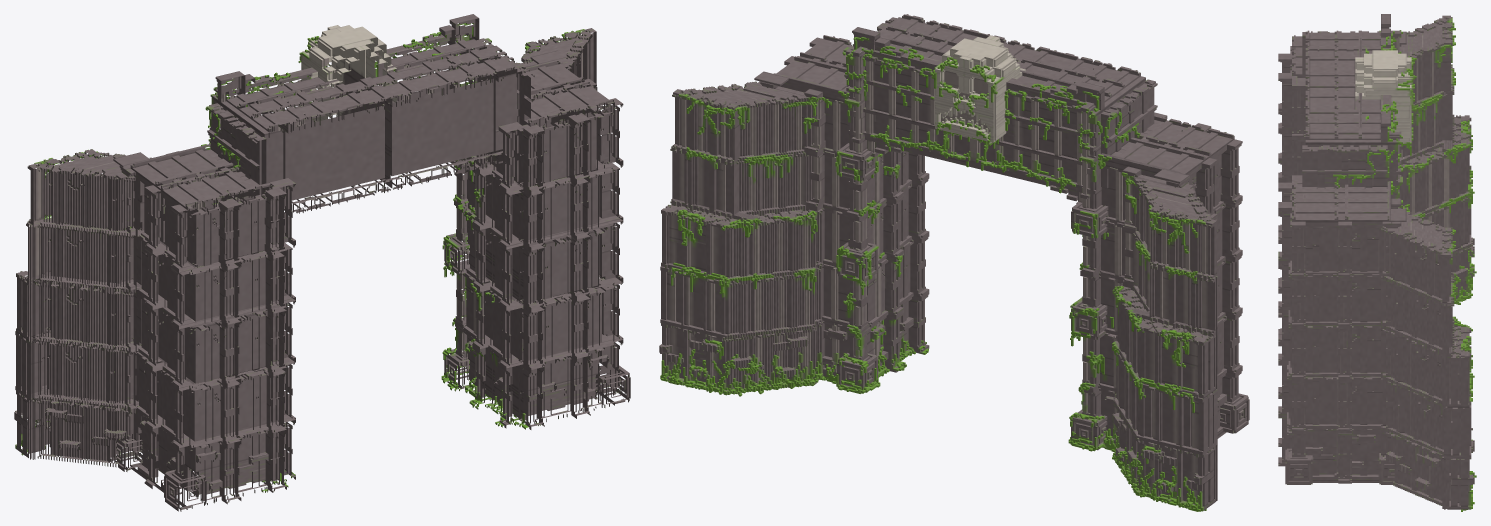
The model's file is Deathgate_state_01.fbx.
The picture shows the model from 3 angles, left to right: view 1: azimuth 30°, elevation 25°; view 2: azimuth 150°, elevation 25°; view 3: azimuth 270°, elevation 25°; orthographic projection. The views are drawn at different scales.
Visible parts, largest first — view 1: deathGate_state_1_part_5_part, deathGate_state_1_part_2_part, deathGate_state_1_part_4_part, deathGate_state_1_part_3, deathGate_state_1, deathGate_state_1_part_4, deathGate_state_1_part_6, deathGate_state_1_part_5, deathGate_state_1_part, deathGate_state_1_part_1_part, deathGate_state_1_part_1, deathGate_state_1_part_2; view 2: deathGate_state_1_part_5_part, deathGate_state_1_part_2_part, deathGate_state_1_part_1_part, deathGate_state_1_part, deathGate_state_1_part_6, deathGate_state_1_part_1, deathGate_state_1, deathGate_state_1_part_2, deathGate_state_1_part_4_part, deathGate_state_1_part_3, deathGate_state_1_part_4, deathGate_state_1_part_5; view 3: deathGate_state_1_part_2_part, deathGate_state_1_part_1_part, deathGate_state_1_part, deathGate_state_1_part_1, deathGate_state_1_part_2, deathGate_state_1_part_5_part, deathGate_state_1, deathGate_state_1_part_4_part, deathGate_state_1_part_6, deathGate_state_1_part_5, deathGate_state_1_part_4, deathGate_state_1_part_3.
Part boxes in pixels (left/top/right/bottom): deathGate_state_1_part_5_part: left=27, top=71, right=295, bottom=275; deathGate_state_1_part_2_part: left=448, top=14, right=623, bottom=196; deathGate_state_1_part_4_part: left=16, top=271, right=295, bottom=390; deathGate_state_1_part_3: left=14, top=378, right=295, bottom=511; deathGate_state_1: left=332, top=25, right=498, bottom=189; deathGate_state_1_part_4: left=15, top=327, right=295, bottom=447; deathGate_state_1_part_6: left=237, top=26, right=392, bottom=216; deathGate_state_1_part_5: left=26, top=203, right=295, bottom=328; deathGate_state_1_part: left=441, top=296, right=630, bottom=429; deathGate_state_1_part_1_part: left=442, top=183, right=623, bottom=312; deathGate_state_1_part_1: left=443, top=257, right=623, bottom=369; deathGate_state_1_part_2: left=450, top=86, right=623, bottom=250; deathGate_state_1_part_5_part: left=1071, top=66, right=1242, bottom=280; deathGate_state_1_part_2_part: left=671, top=14, right=921, bottom=170; deathGate_state_1_part_1_part: left=661, top=177, right=929, bottom=284; deathGate_state_1_part: left=659, top=291, right=929, bottom=396; deathGate_state_1_part_6: left=964, top=36, right=1122, bottom=201; deathGate_state_1_part_1: left=660, top=237, right=929, bottom=337; deathGate_state_1: left=872, top=17, right=1020, bottom=168; deathGate_state_1_part_2: left=670, top=148, right=929, bottom=218; deathGate_state_1_part_4_part: left=1069, top=254, right=1242, bottom=398; deathGate_state_1_part_3: left=1068, top=368, right=1249, bottom=511; deathGate_state_1_part_4: left=1070, top=314, right=1242, bottom=453; deathGate_state_1_part_5: left=1071, top=205, right=1242, bottom=330; deathGate_state_1_part_2_part: left=1278, top=113, right=1455, bottom=306; deathGate_state_1_part_1_part: left=1278, top=290, right=1474, bottom=407; deathGate_state_1_part: left=1278, top=393, right=1476, bottom=511; deathGate_state_1_part_1: left=1278, top=344, right=1472, bottom=456; deathGate_state_1_part_2: left=1278, top=263, right=1454, bottom=353; deathGate_state_1_part_5_part: left=1278, top=14, right=1455, bottom=141; deathGate_state_1: left=1305, top=59, right=1416, bottom=155; deathGate_state_1_part_4_part: left=1278, top=114, right=1474, bottom=232; deathGate_state_1_part_6: left=1305, top=28, right=1416, bottom=121; deathGate_state_1_part_5: left=1278, top=68, right=1454, bottom=180; deathGate_state_1_part_4: left=1278, top=169, right=1472, bottom=281; deathGate_state_1_part_3: left=1278, top=237, right=1476, bottom=334.
Bounding box in the file's own units: 334 × 215 × 116.
1 material, 1 textured.
